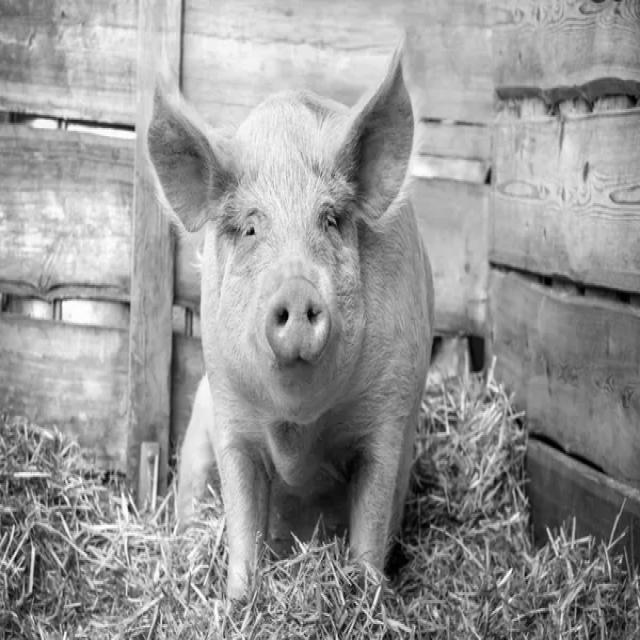Animal: (127, 41, 451, 596)
